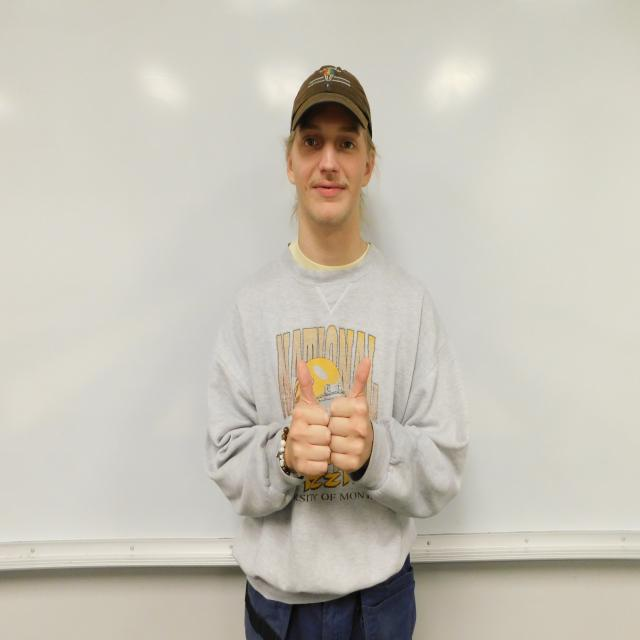how: (287, 356, 371, 478)
